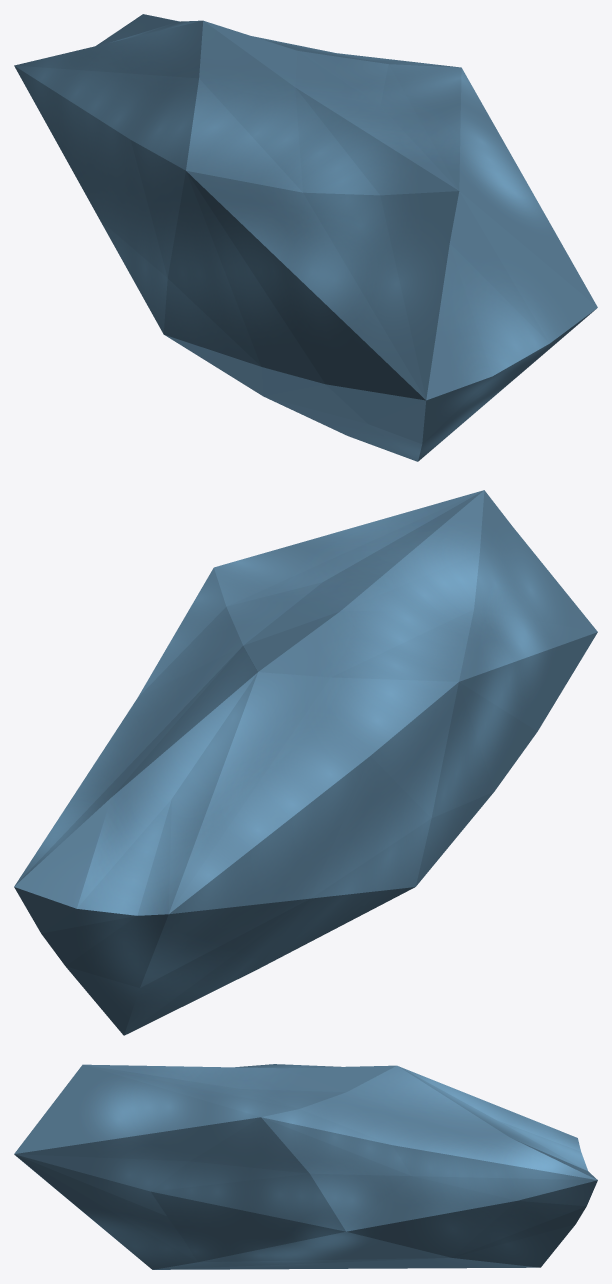
Rendered from Resource_Metal.fbx.
The picture shows the model from 3 angles, top to bottom: view 1: azimuth 30°, elevation 25°; view 2: azimuth 150°, elevation 25°; view 3: azimuth 270°, elevation 25°; orthographic projection. The views are drawn at different scales.
Visible parts, largest first — view 1: Metal; view 2: Metal; view 3: Metal.
Part boxes in pixels (bbox=[...]): Metal: bbox=[14, 14, 597, 461]; Metal: bbox=[14, 490, 597, 1035]; Metal: bbox=[14, 1064, 597, 1269].
Size of the model in its own units: 35.59 by 11.95 by 13.53.
Materials: 1 (1 with a texture image).
